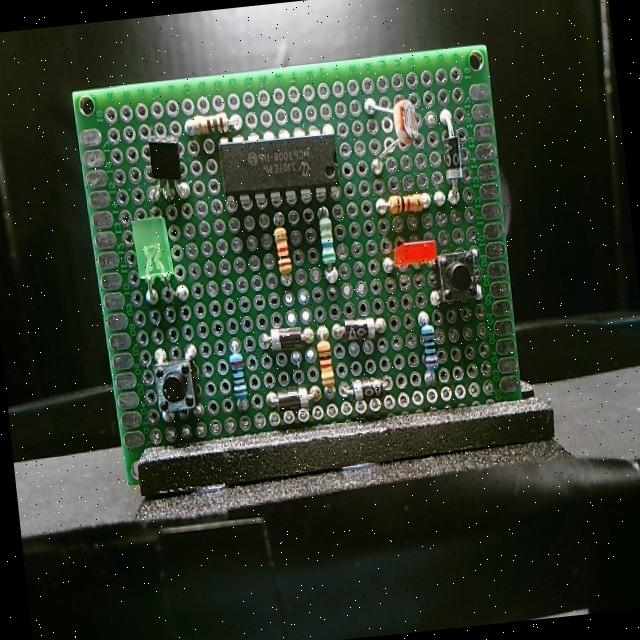IC: (214, 126, 344, 202)
cds: (385, 99, 423, 154)
diode: (264, 321, 310, 357), (438, 132, 464, 188), (341, 316, 382, 346), (270, 386, 314, 412), (349, 378, 383, 404)
led: (128, 212, 174, 284), (390, 233, 440, 276)
resistor: (268, 220, 294, 278), (225, 347, 251, 404), (314, 212, 339, 270), (312, 341, 338, 394), (414, 321, 440, 372), (386, 189, 430, 219), (189, 107, 234, 136)
switch: (150, 356, 198, 418), (436, 247, 482, 303)
transistor: (144, 133, 186, 187)
